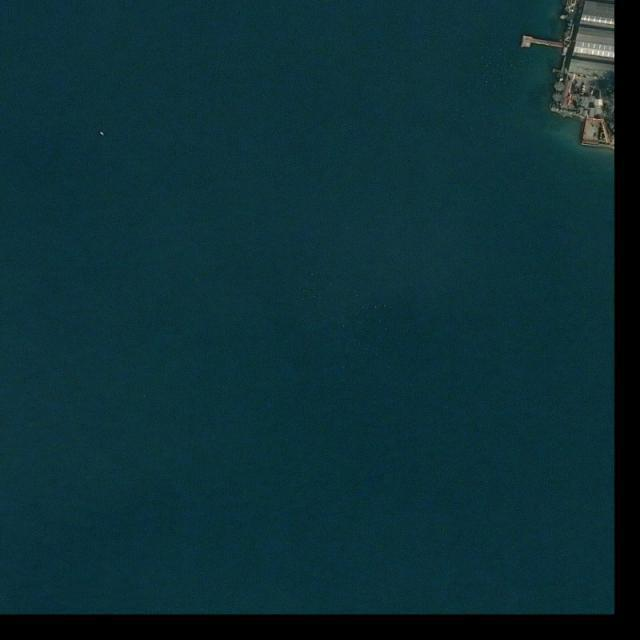ship: (99, 131, 106, 137)
